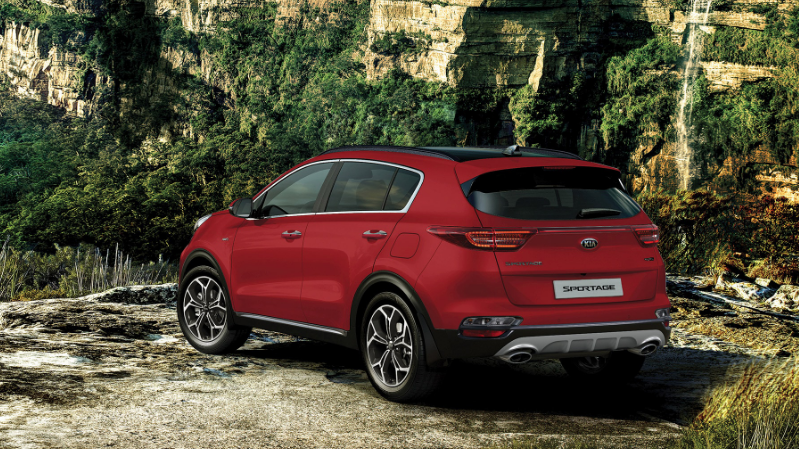Camioneta: (140, 147, 697, 401)
